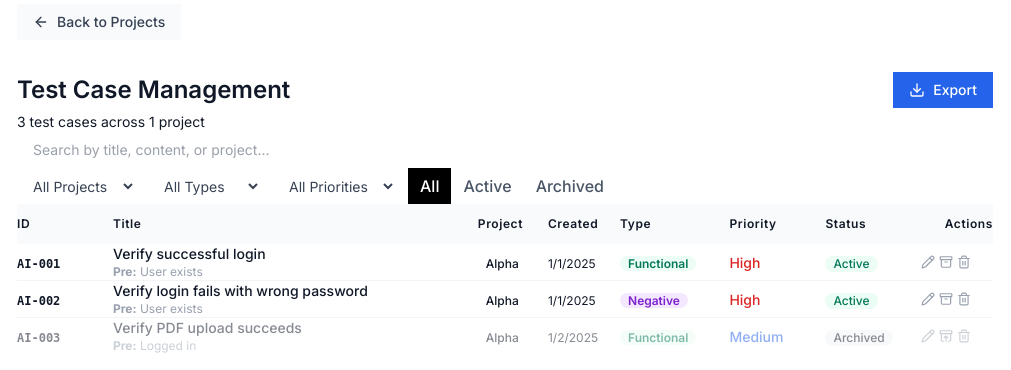
Scenario: TestCaseManagementView – search filter › filters test cases by search keyword
The image size is (1011, 370).
Expected: the text "Verify successful login" is shown, top-left (113, 245), bottom-right (266, 262)
Type "pdf" into the field with placeholder "Search by title, content, or project…" at point(505, 150), box top-left (17, 132), bottom-right (993, 168)
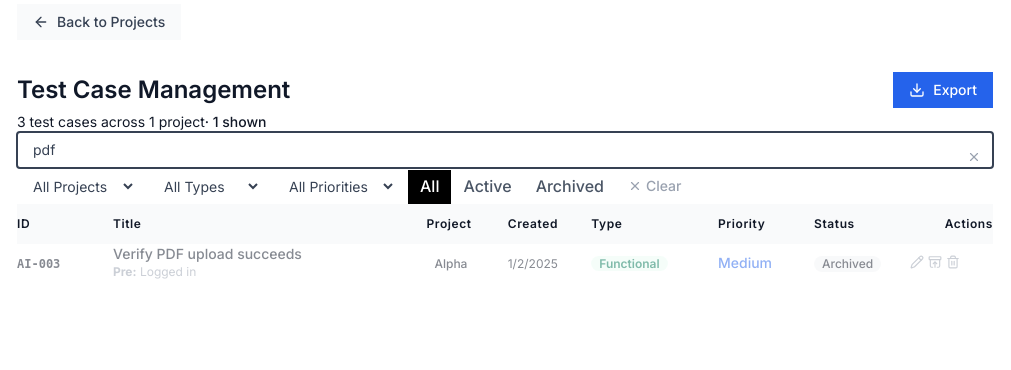
Expected: the text "Verify PDF upload succeeds" is shown, top-left (113, 245), bottom-right (302, 262)
Expected: the text "Verify successful login" is gone
